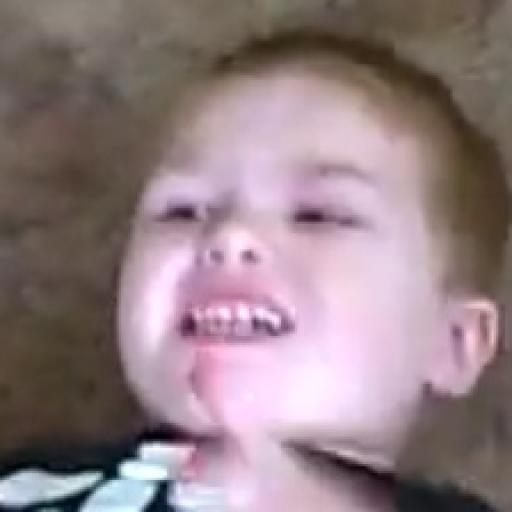Autism: (107, 62, 512, 463)
